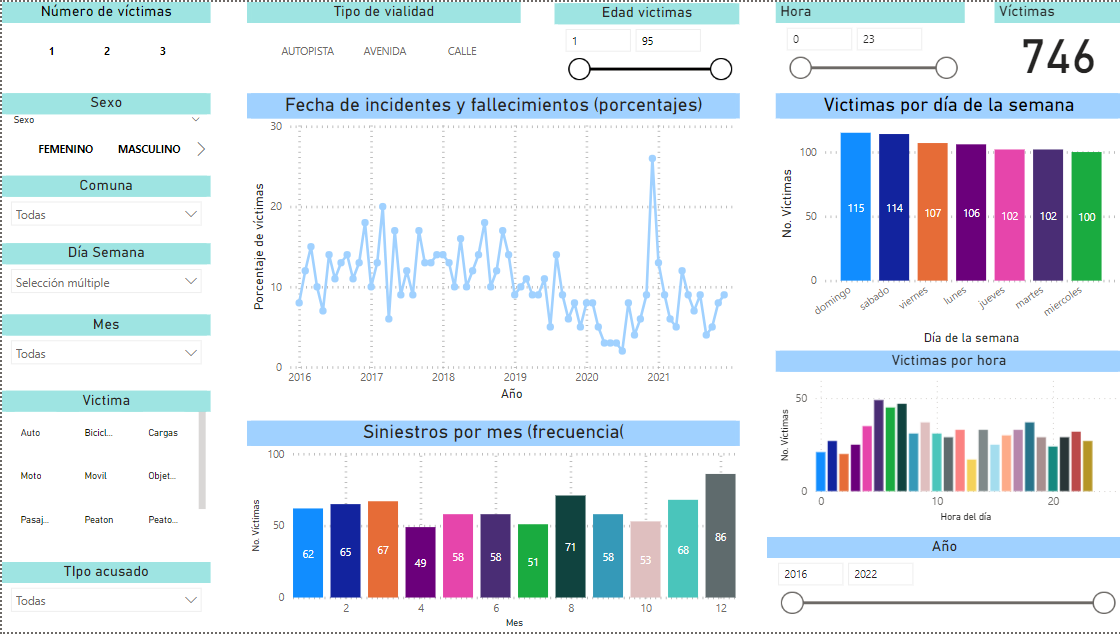

Layout of this report page (visuals, bound fields, positions):
{"tool":"powerbi","page":{"name":"Información temporal","canvas":[1280,720],"ordinal":3},"visuals":[{"type":"slicer","fields":{"Values":["siniestros.N_Victimas"]},"box":[0,0,212.7,90.6],"z":0},{"type":"slicer","fields":{"Values":["siniestros.Sexo"]},"box":[0,104.3,238.8,93.3],"z":1000},{"type":"slicer","fields":{"Values":["siniestros.Tipo_De_Calle"]},"box":[238.8,7.3,312,90.8],"z":2000},{"type":"slicer","title":"Edad victimas","fields":{"Values":["siniestros.Edad"]},"box":[550.8,0,212.4,104],"z":3000},{"type":"slicer","fields":{"Values":["siniestros.Comuna"]},"box":[0,197.6,212.7,90.6],"z":4000},{"type":"slicer","title":"Hora del  siniestro","fields":{"Values":["siniestros.Hora_Siniestro"]},"box":[855.5,16.1,216.8,76.2],"z":5000},{"type":"slicer","fields":{"Values":["siniestros.Dia_Semana_Siniestro"]},"box":[0,262.2,212.4,68.8],"z":6000},{"type":"slicer","fields":{"Values":["siniestros.Anio_Fallecimiento"]},"box":[874.5,644.5,405.8,76.2],"z":7000},{"type":"advancedSlicerVisual","fields":{"Values":["siniestros.Victima"]},"box":[0,465.8,249,155.3],"z":8000},{"type":"slicer","fields":{"Values":["siniestros.Acusado"]},"box":[5.9,640.1,212.4,63],"z":9000},{"type":"lineChart","title":"Fecha de incidentes y fallecimientos (porcentajes)","fields":{"Y":["Sum(siniestros.N_Victimas)"],"Category":["siniestros.Fecha_Siniestro.Variación.Jerarquía de fechas.Año","siniestros.Fecha_Siniestro.Variación.Jerarquía de fechas.Mes"]},"box":[288.6,108.6,585.7,357.1],"z":10000},{"type":"columnChart","title":"Siniestros por mes (frecuencia(","fields":{"Category":["siniestros.Mes_Siniestro"],"Y":["Sum(siniestros.N_Victimas)"],"Series":["siniestros.Mes_Siniestro"]},"box":[278.6,478.6,585.7,241.4],"z":11000},{"type":"columnChart","title":"Fecha de incidentes y fallecimientos (porcentajes)","fields":{"Y":["Sum(siniestros.N_Victimas)"],"Category":["siniestros.Dia_Semana_Siniestro"],"Series":["siniestros.Dia_Semana_Siniestro"]},"box":[864.3,134.3,415.7,331.4],"z":12000},{"type":"card","fields":{"Values":["Sum(siniestros.N_Victimas)"]},"box":[1133.8,0,146.5,108.4],"z":13000},{"type":"slicer","fields":{"Values":["siniestros.Mes_Siniestro"]},"box":[0,357.4,222.7,76.2],"z":14000},{"type":"columnChart","fields":{"Category":["siniestros.Hora_Siniestro"],"Y":["Sum(siniestros.N_Victimas)"],"Series":["siniestros.Hora_Siniestro"]},"box":[864.3,443.9,416,200.7],"z":15000}]}

Visuals, with their boxes in screenshot pixels (x1, y1, x2, y2), scaled from the page's 1280x720 canvas onto the 1120x634 screenshot:
slicer - siniestros.N_Victimas: box(0, 0, 186, 80)
slicer - siniestros.Sexo: box(0, 92, 209, 174)
slicer - siniestros.Tipo_De_Calle: box(209, 6, 482, 86)
"Edad victimas" slicer: box(482, 0, 668, 92)
slicer - siniestros.Comuna: box(0, 174, 186, 254)
"Hora del  siniestro" slicer: box(749, 14, 938, 81)
slicer - siniestros.Dia_Semana_Siniestro: box(0, 231, 186, 291)
slicer - siniestros.Anio_Fallecimiento: box(765, 568, 1119, 633)
advancedSlicerVisual - siniestros.Victima: box(0, 410, 218, 547)
slicer - siniestros.Acusado: box(5, 564, 191, 619)
"Fecha de incidentes y fallecimientos (porcentajes)" lineChart: box(253, 96, 765, 410)
"Siniestros por mes (frecuencia(" columnChart: box(244, 421, 756, 633)
"Fecha de incidentes y fallecimientos (porcentajes)" columnChart: box(756, 118, 1119, 410)
card - Sum(siniestros.N_Victimas): box(992, 0, 1119, 95)
slicer - siniestros.Mes_Siniestro: box(0, 315, 195, 382)
columnChart - siniestros.Hora_Siniestro x Sum(siniestros.N_Victimas): box(756, 391, 1119, 568)
